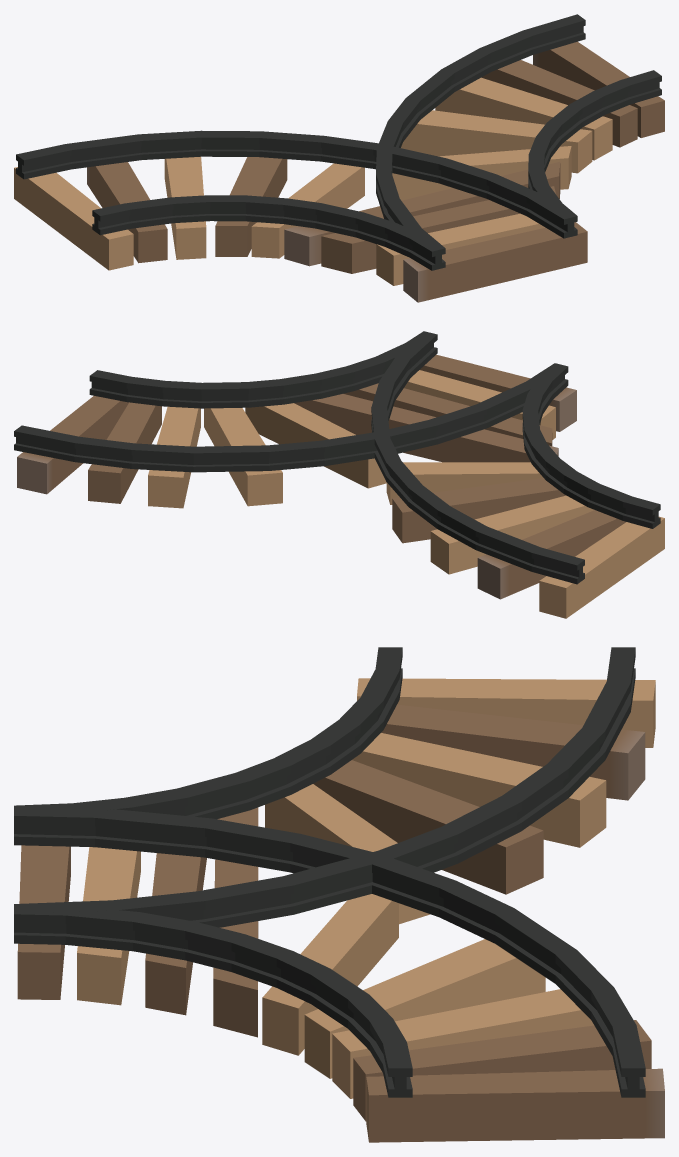
The model's file is railroad y curve.fbx.
3 views of the same model, one above another, from view 1: azimuth 30°, elevation 25°; view 2: azimuth 150°, elevation 25°; view 3: azimuth 270°, elevation 25° (orthographic). The views are drawn at different scales.
Visible parts, largest first — view 1: railorad y-curve; view 2: railorad y-curve; view 3: railorad y-curve.
Boxes of the visible parts, x1=… form: railorad y-curve: x1=14, y1=14, x2=664, y2=302; railorad y-curve: x1=14, y1=331, x2=664, y2=618; railorad y-curve: x1=14, y1=647, x2=664, y2=1142.
Bounding box in the file's own units: 6.7 × 0.5695 × 4.38.
